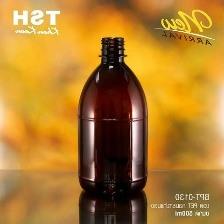insecticide: (74, 33, 152, 200)
